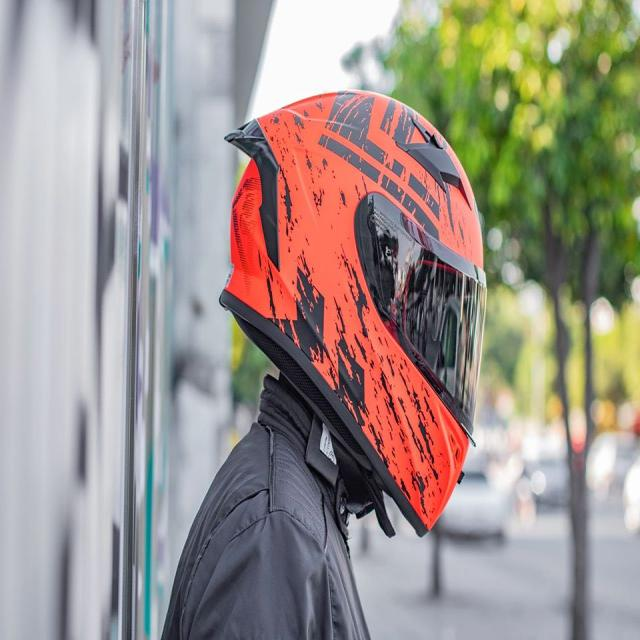Helmet: (211, 77, 492, 547)
